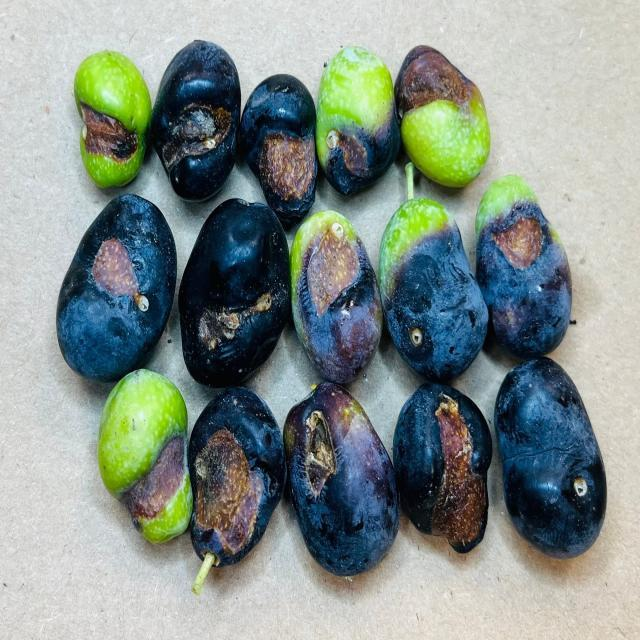Anthracnose: (283, 382, 400, 577), (56, 194, 176, 382), (494, 357, 606, 558), (178, 198, 290, 388), (379, 199, 488, 383), (188, 386, 285, 566), (476, 174, 572, 354), (393, 383, 492, 553), (99, 369, 192, 543), (290, 211, 382, 383), (149, 40, 241, 201), (394, 46, 490, 188), (238, 74, 318, 230), (317, 46, 400, 194), (75, 51, 152, 187)
